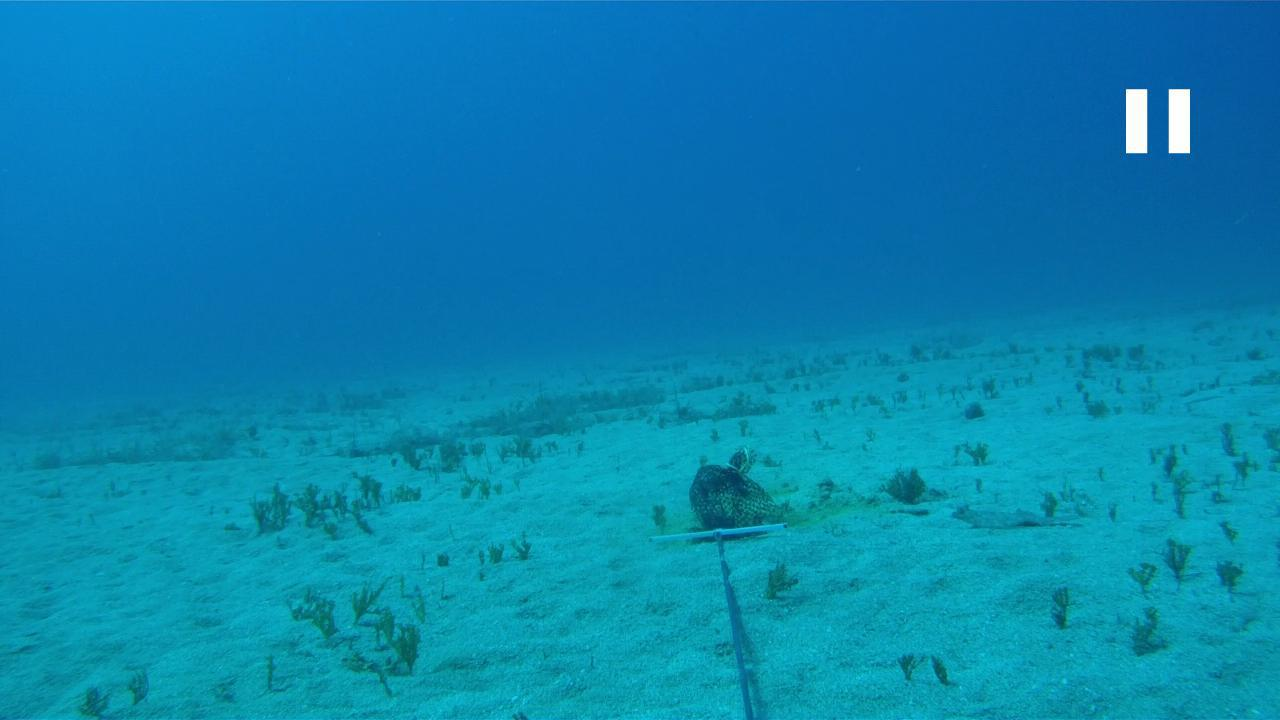bothus: (949, 500, 1081, 532)
